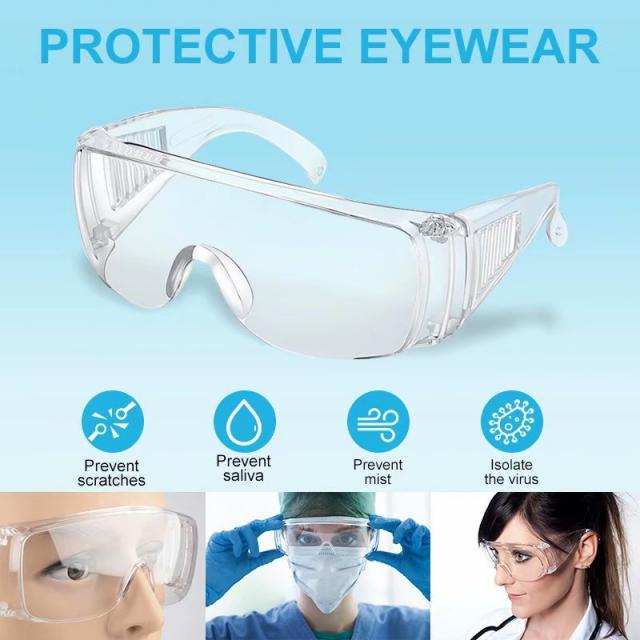Protective Glasses: (61, 90, 598, 384)
